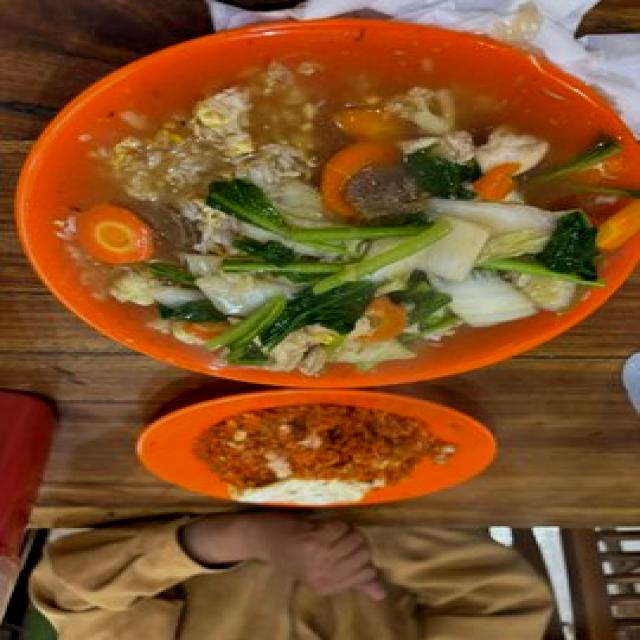capcay: (43, 41, 640, 386)
